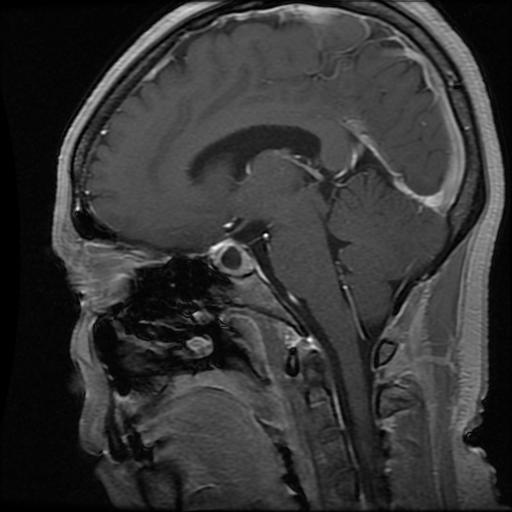Pituirity_tumour: (208, 238, 255, 274)
